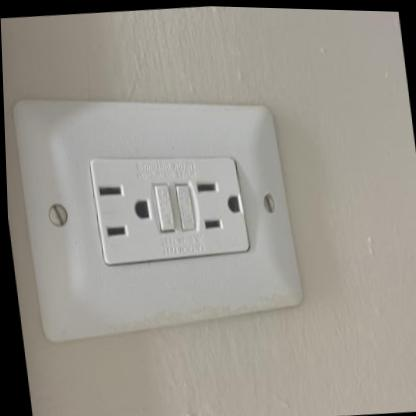OUTLET: (11, 77, 305, 334)
